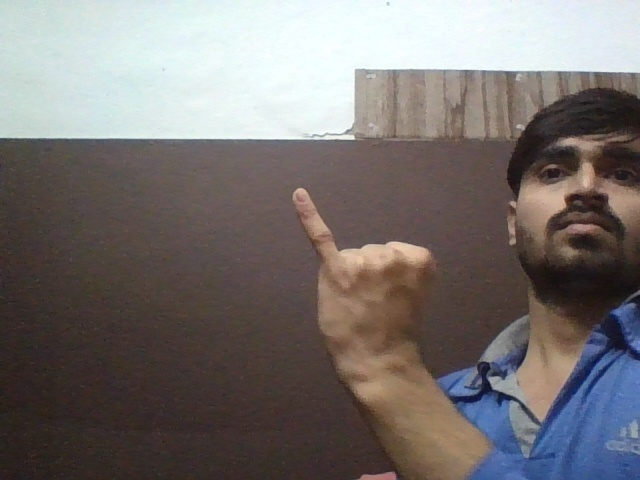J: (287, 188, 453, 371)
